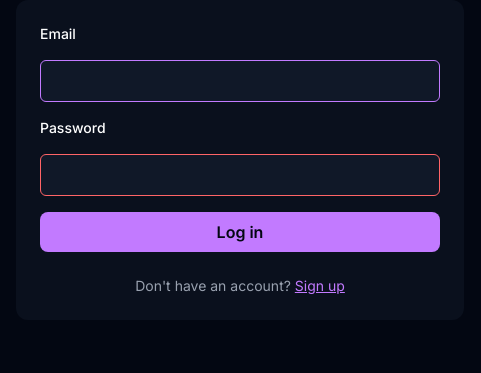
it: LoginForm › falls back to a generic message on unknown errors
In the field labelled "Email": (240, 81) [40,60,440,102], type "alice@example.com"
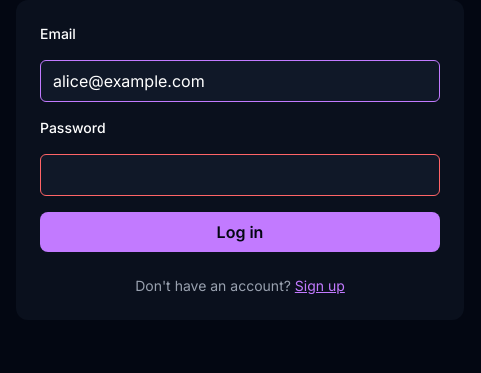
In the password field labelled "Password": (240, 175) [40,154,440,196], type "password123"
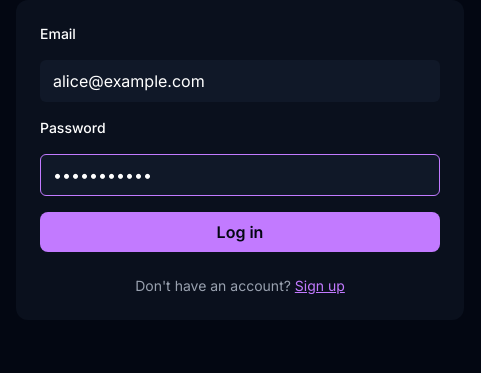
Click the button "Log in": (240, 232) [40,212,440,252]
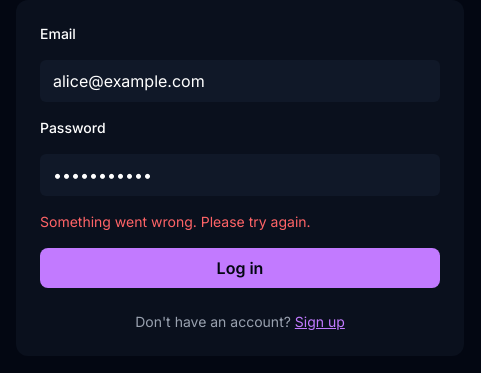
Expected: the button "Log in" is enabled, [40,248,440,288]
Now the message shows "Something went wrong", box [40,213,311,230]
